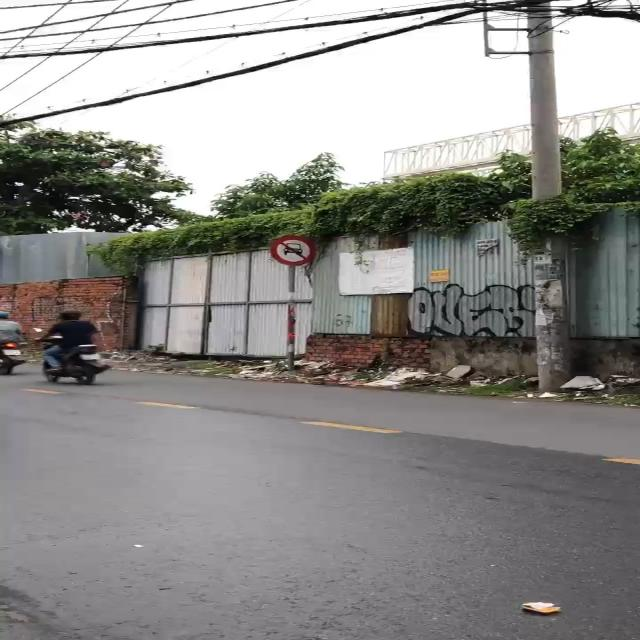Bien bao cam xe oto: (267, 232, 321, 269)
